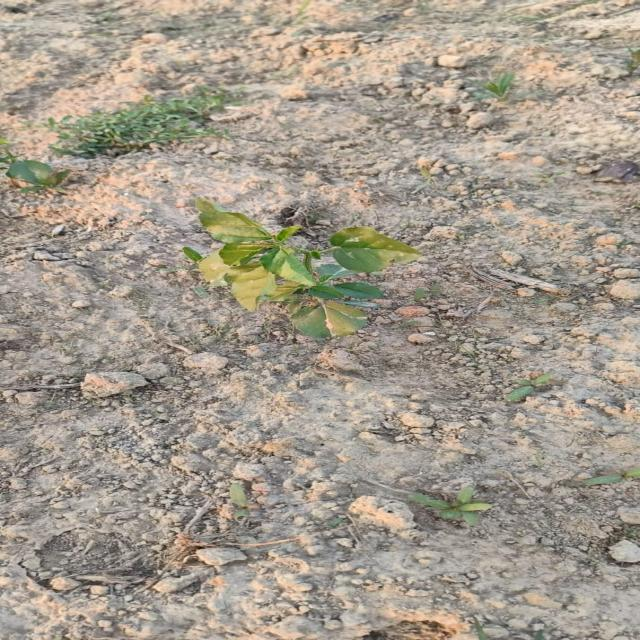plant: (183, 198, 416, 338)
